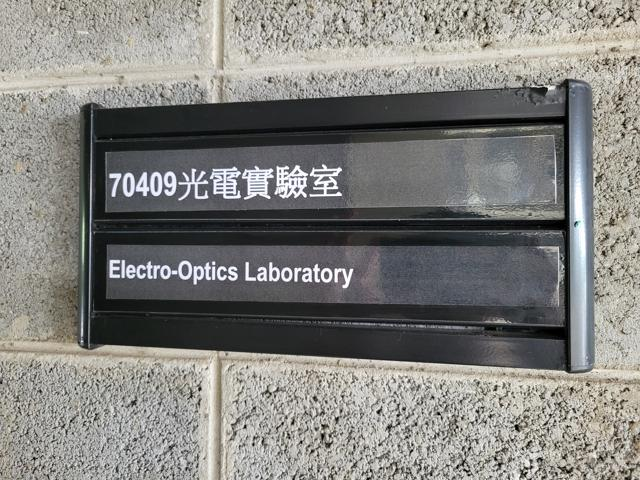doorplate: (70, 75, 604, 378)
